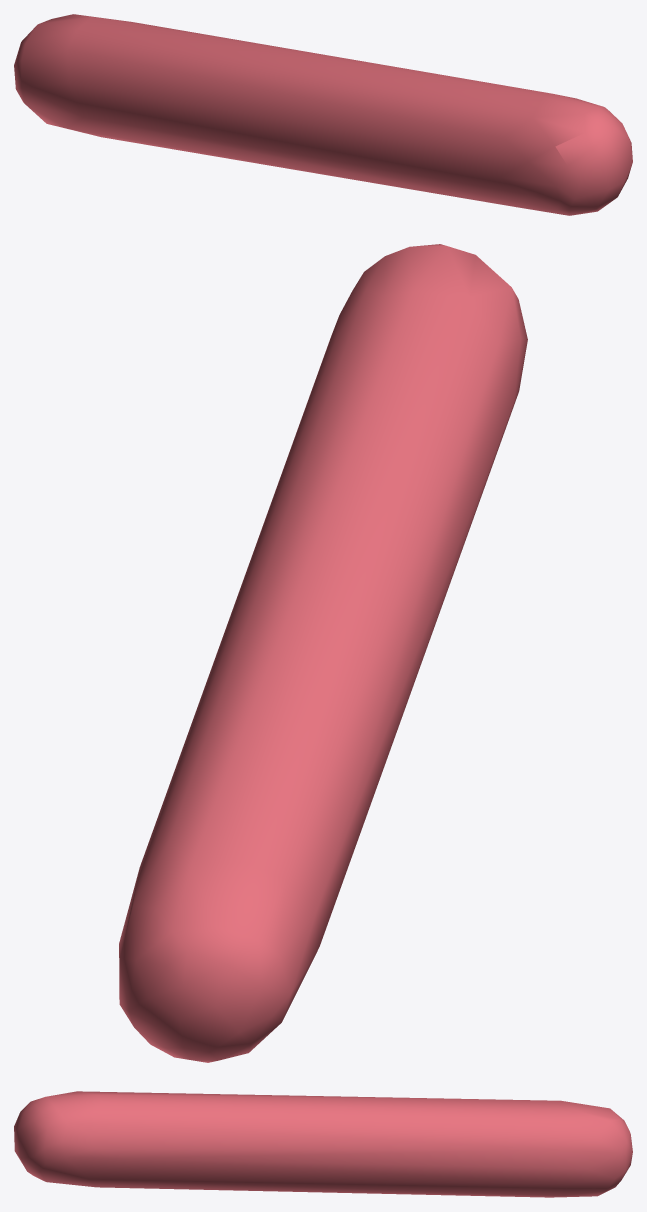
The model's file is fma4088_fj1970.glb.
3 renders of one model, top to bottom at view 1: azimuth 30°, elevation 25°; view 2: azimuth 150°, elevation 25°; view 3: azimuth 270°, elevation 25°, orthographic. The views are drawn at different scales.
Parts seen in each view (by area): view 1: FMA4088_FJ1970; view 2: FMA4088_FJ1970; view 3: FMA4088_FJ1970.
Boxes of the visible parts, bbox=[...] form: FMA4088_FJ1970: bbox=[14, 14, 632, 215]; FMA4088_FJ1970: bbox=[119, 244, 527, 1062]; FMA4088_FJ1970: bbox=[14, 1091, 632, 1197].
Bounding box in the file's own units: 0.00539 × 0.00369 × 0.0124.
